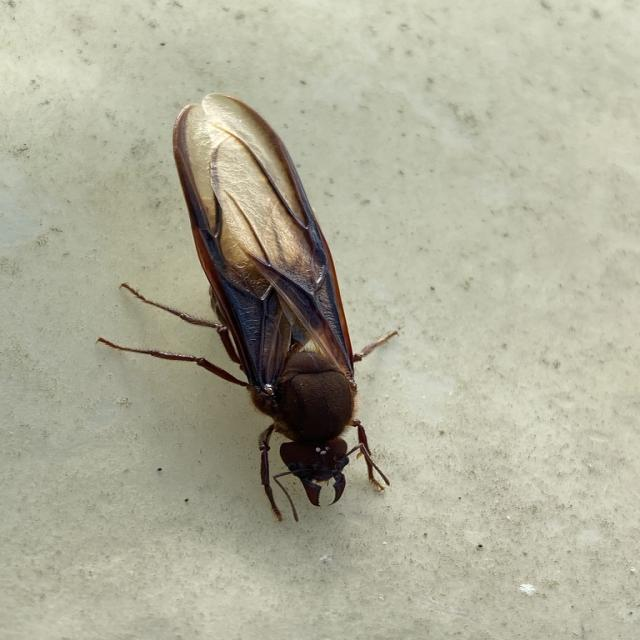Alive-Female-Alate: (95, 94, 401, 525)
